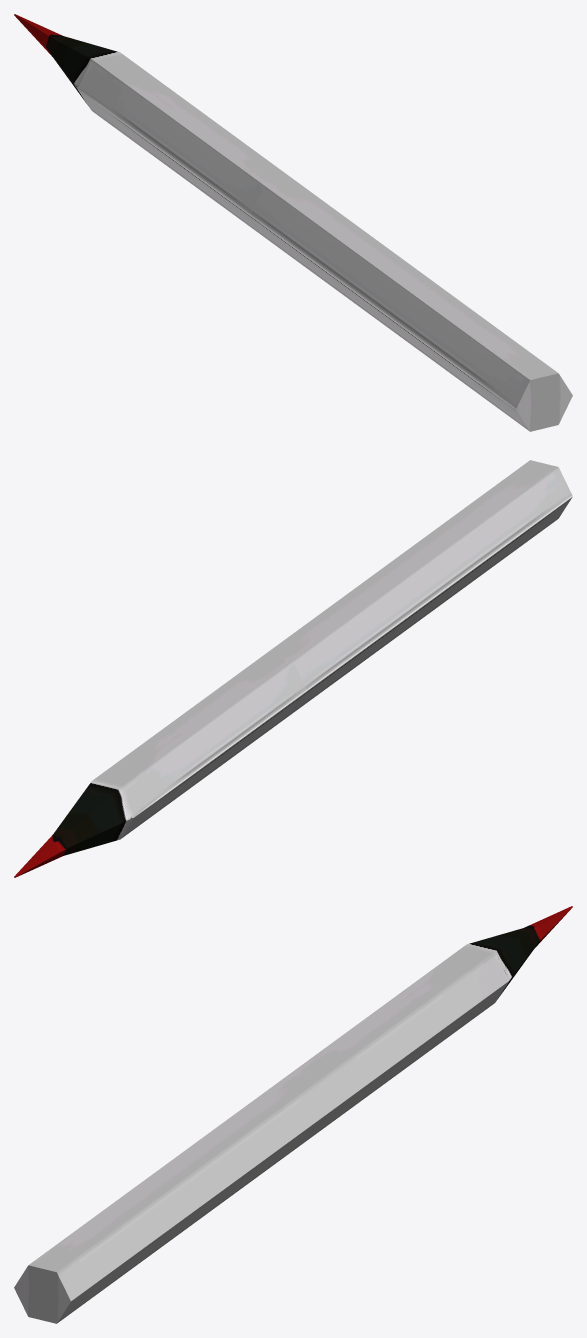
File: Pencil.glb
3 renders of one model, top to bottom at view 1: azimuth 30°, elevation 25°; view 2: azimuth 150°, elevation 25°; view 3: azimuth 330°, elevation 25°, orthographic.
Visible parts, largest first — view 1: Pencil; view 2: Pencil; view 3: Pencil.
Part boxes in pixels (x1=…): Pencil: x1=14, y1=14, x2=572, y2=431; Pencil: x1=14, y1=460, x2=572, y2=877; Pencil: x1=14, y1=906, x2=572, y2=1323.
Bounding box in the file's own units: 2.82 × 2.44 × 45.31.
Materials: 1 (1 with a texture image).
